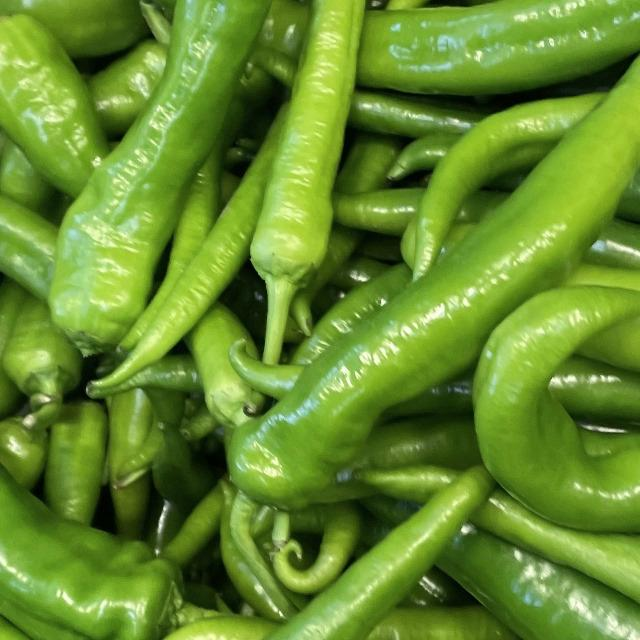chili_pepper: (42, 0, 347, 357), (230, 0, 432, 377)
